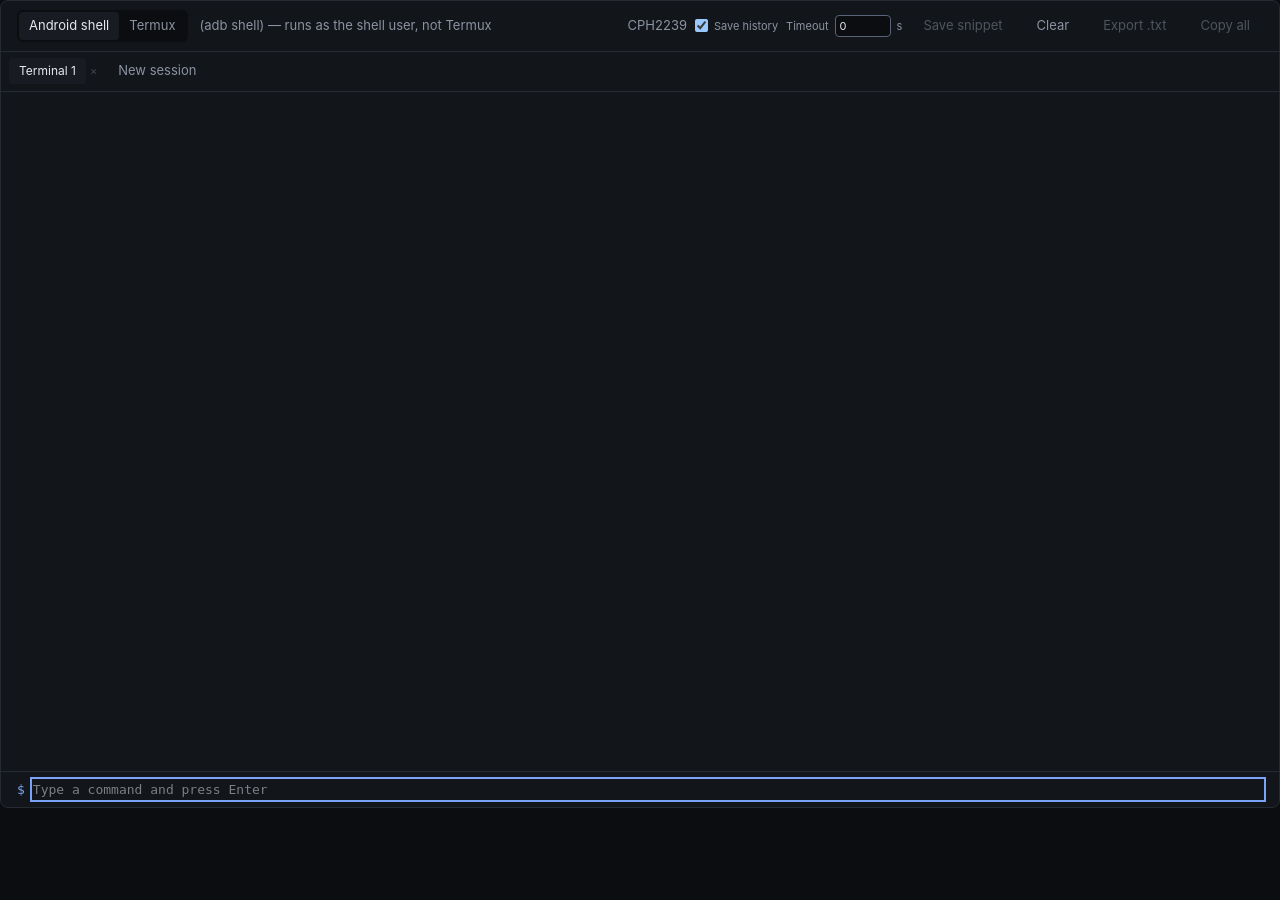
Test: TerminalView › keeps output independent across terminal tabs and supports Mod+T/Mod+W
Type "printf first" into the field labelled "command".
click(648, 789); type("printf first")  # box [33,780,1263,799]
Then press Enter
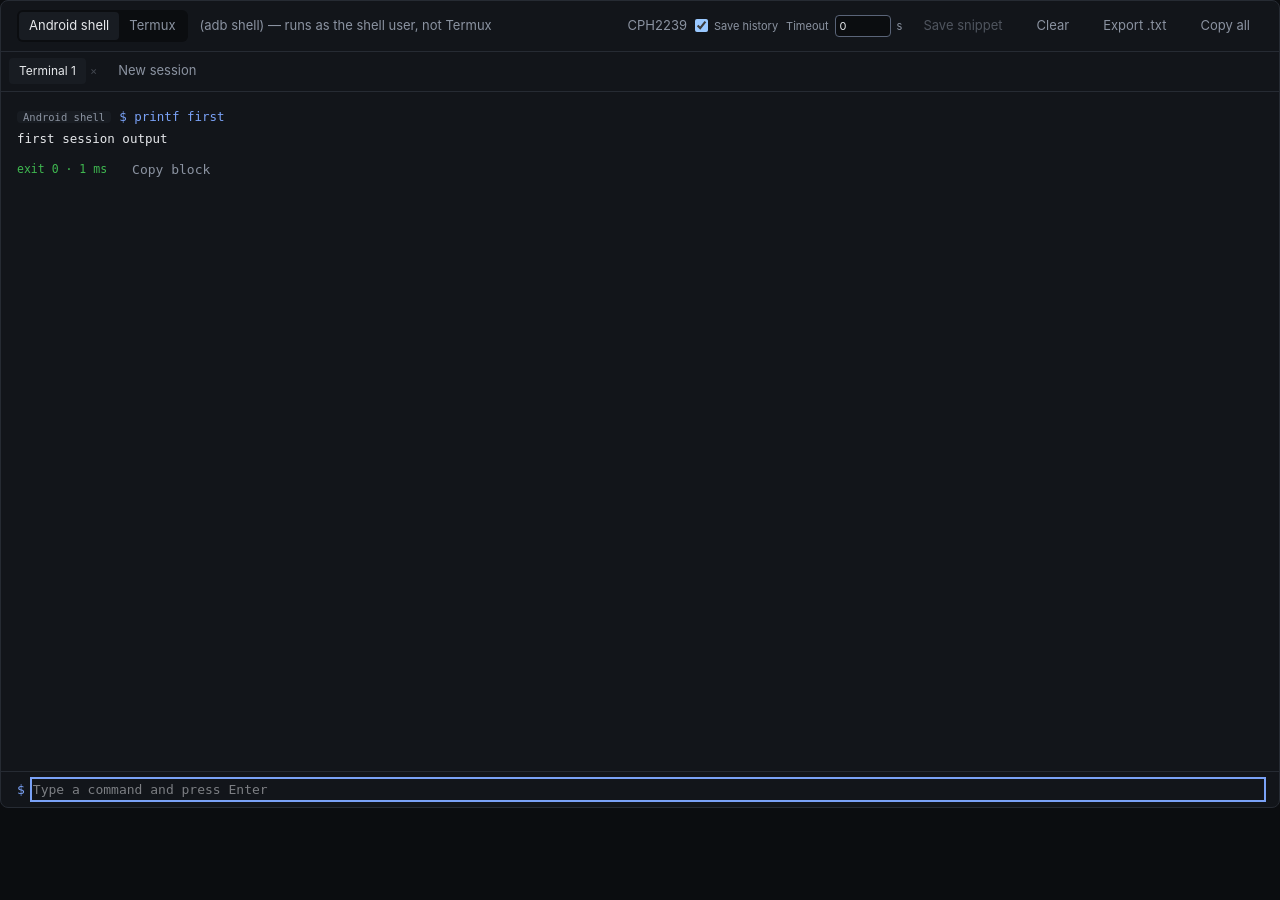
Expected: the text "first session output" is shown, [17,131,168,146]
Click the button with aria-label "New terminal session".
click(157, 71)  # box [105,54,209,88]
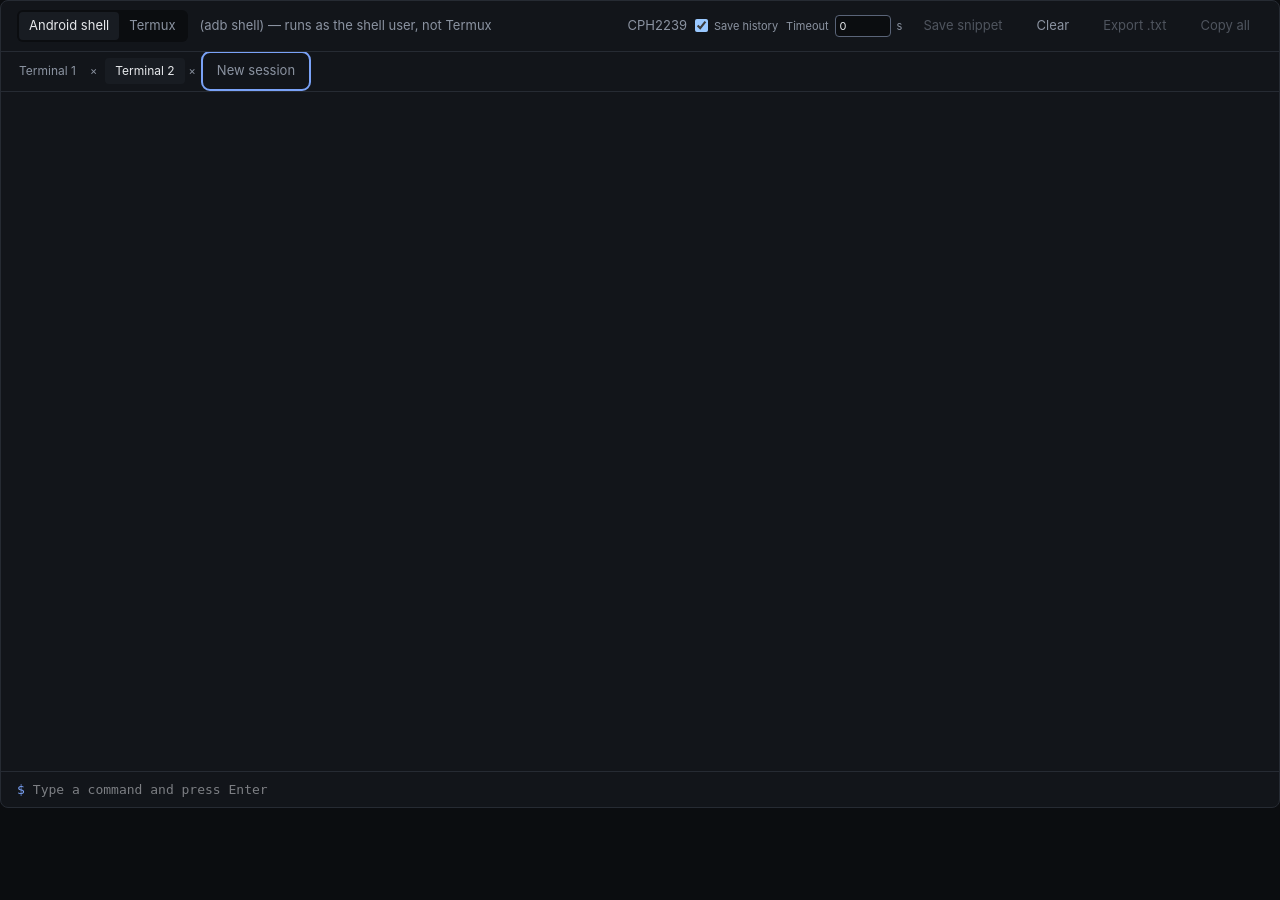
Expected: the text "first session output" is gone
Type "printf second" into the field labelled "command".
click(648, 789); type("printf second")  # box [33,780,1263,799]
Then press Enter
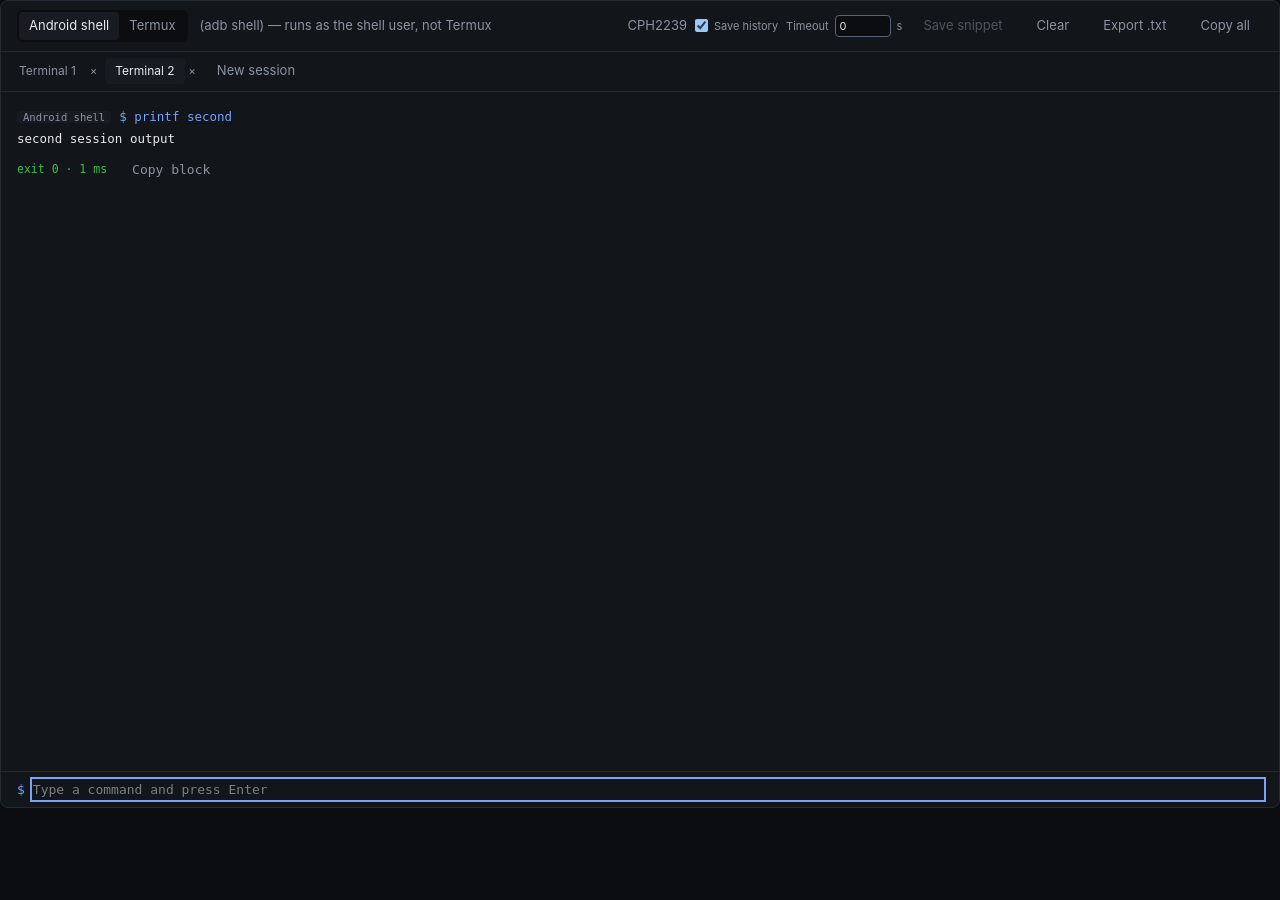
Expected: the text "second session output" is shown, [17,131,175,146]
Click the tab "Terminal 1".
click(47, 71)  # box [9,58,86,84]
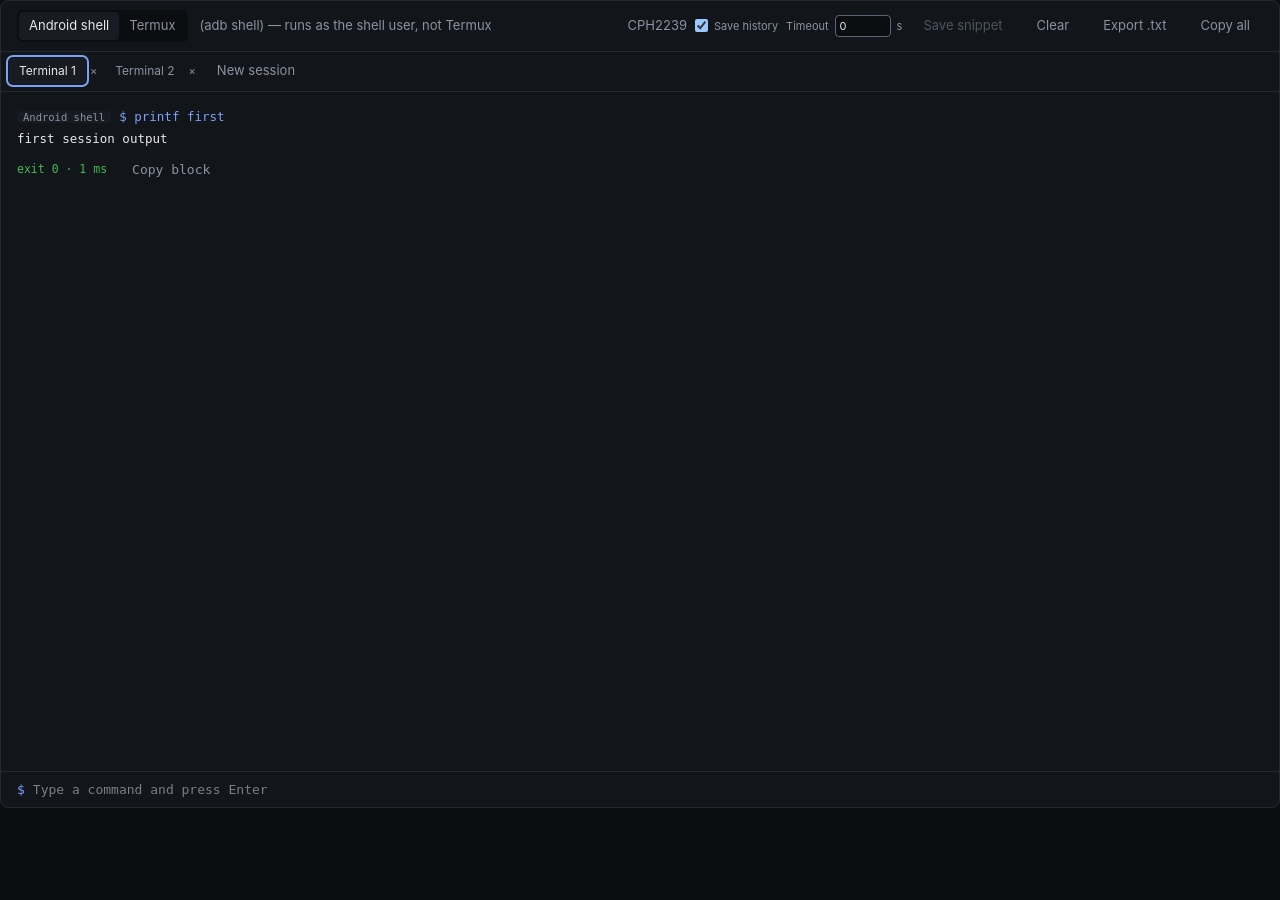
Expected: the text "first session output" is shown, [17,131,168,146]
Expected: the text "second session output" is gone
Type keys "{Control>}t{/Control}"
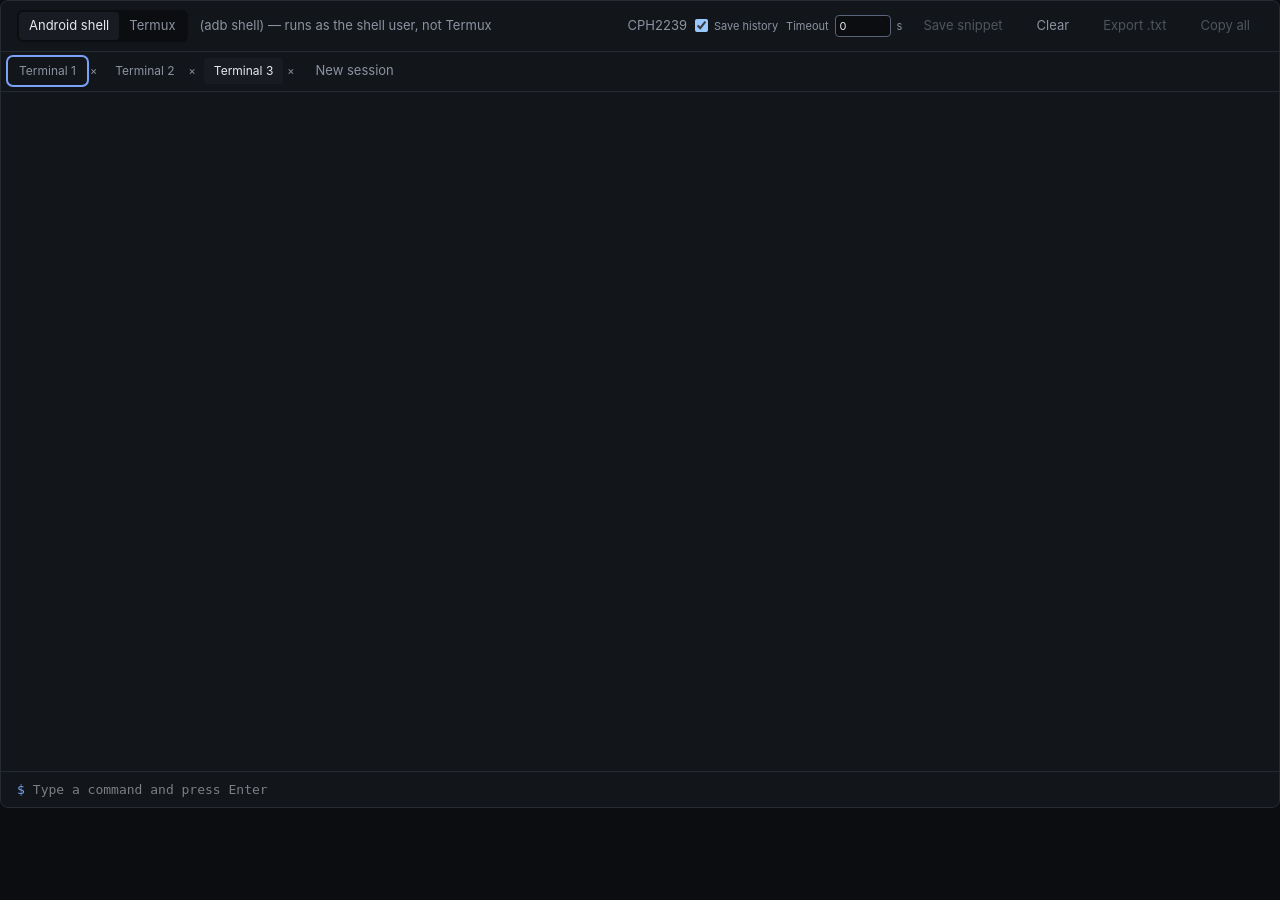
Type keys "{Control>}w{/Control}"
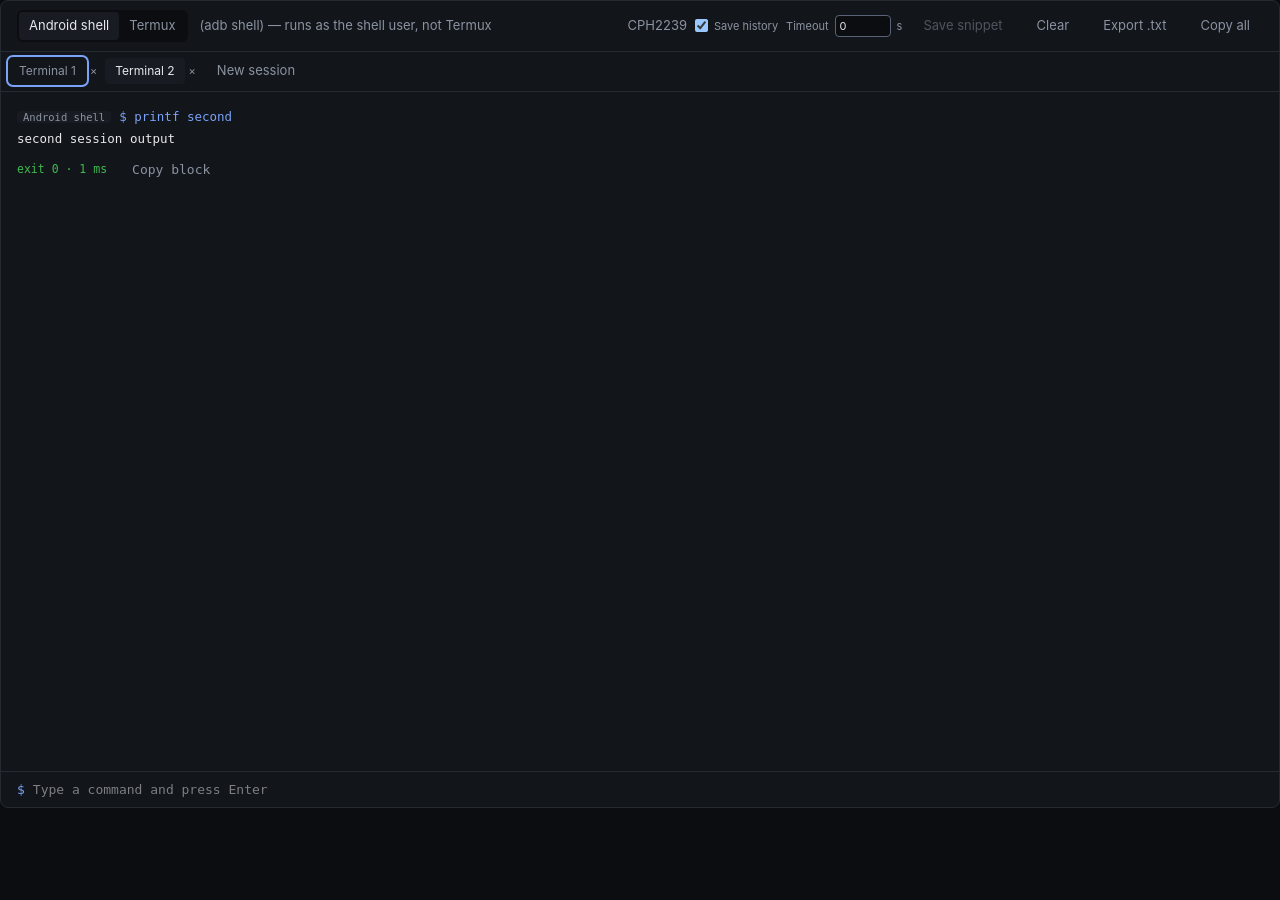
Expected: the tab "Terminal 3" is gone
